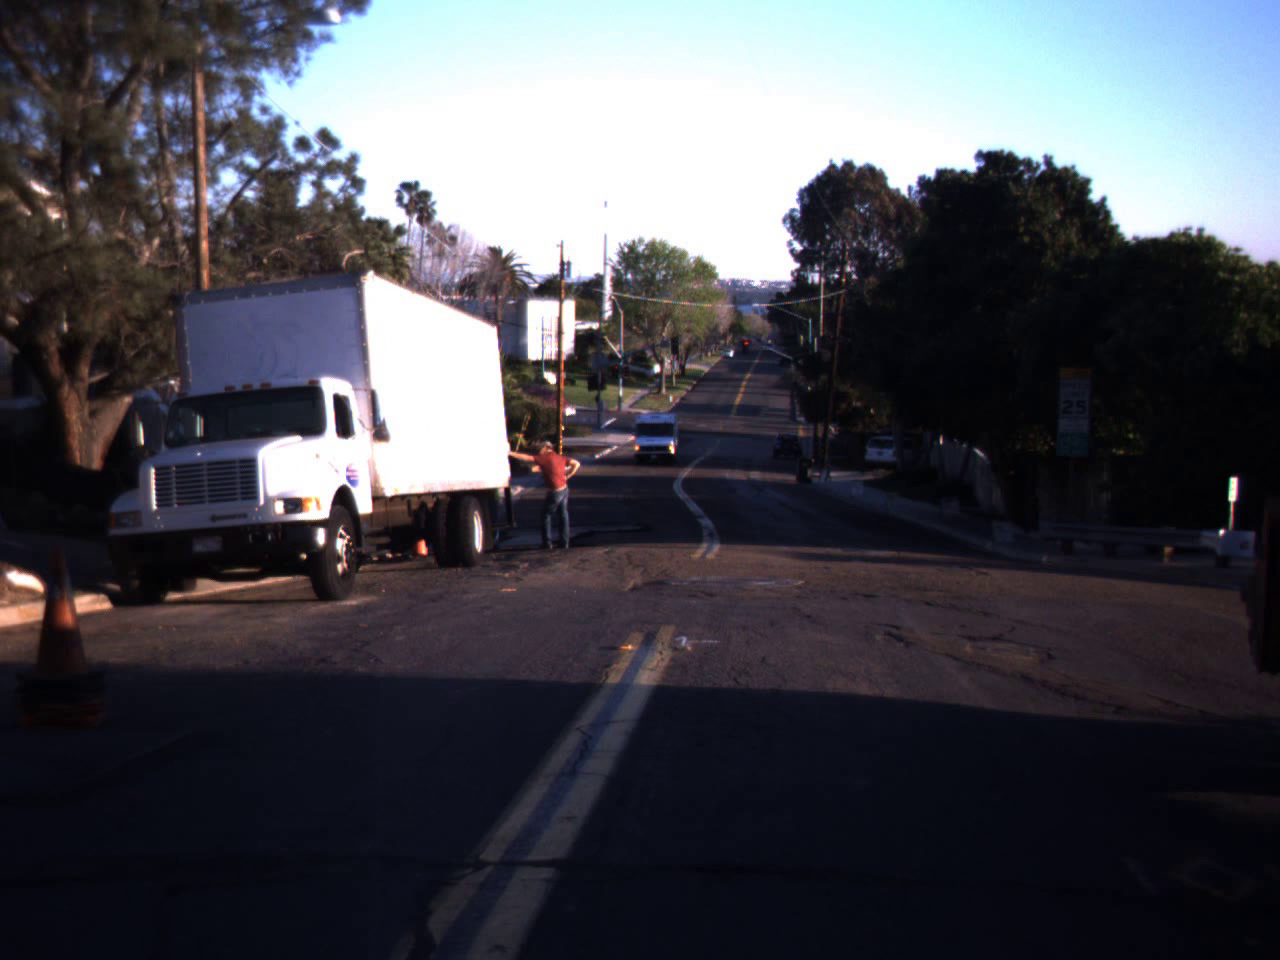stop: (606, 360, 624, 387)
